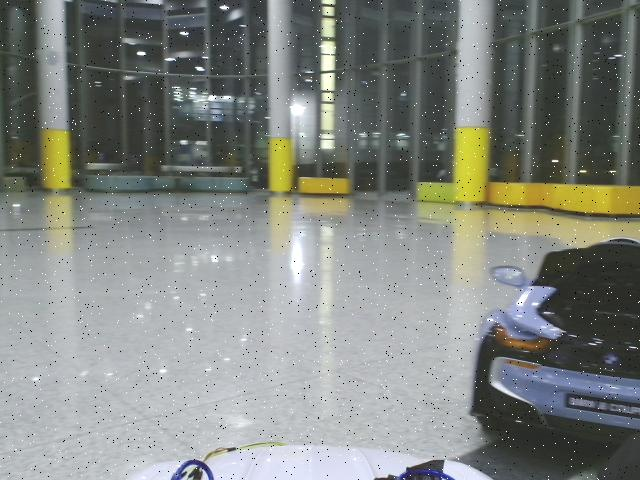car: (469, 238, 640, 447)
